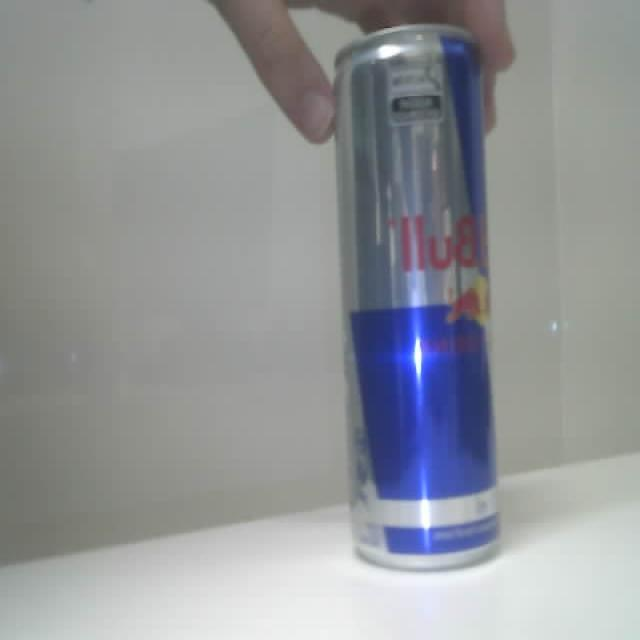redbull can: (336, 26, 498, 569)
